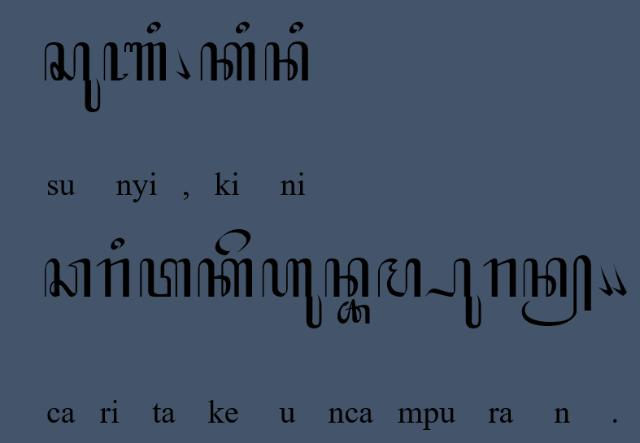-n: (521, 254, 593, 328)
_c: (338, 298, 370, 326)
_pu: (423, 256, 482, 330)
c: (43, 257, 91, 299)
e: (214, 228, 252, 256)
hu: (261, 257, 323, 329)
i: (288, 21, 304, 36), (146, 20, 162, 34), (110, 237, 126, 251), (234, 21, 250, 34)
k: (200, 41, 256, 83), (197, 257, 253, 299)
kom: (174, 46, 192, 80), (596, 264, 614, 298), (610, 264, 628, 296)
m: (376, 257, 422, 299)
n: (263, 41, 311, 83), (324, 258, 370, 298)
ny1: (102, 42, 168, 82)
r: (95, 257, 131, 299), (483, 258, 517, 298)
su: (43, 40, 101, 113)
t: (139, 257, 193, 299)
